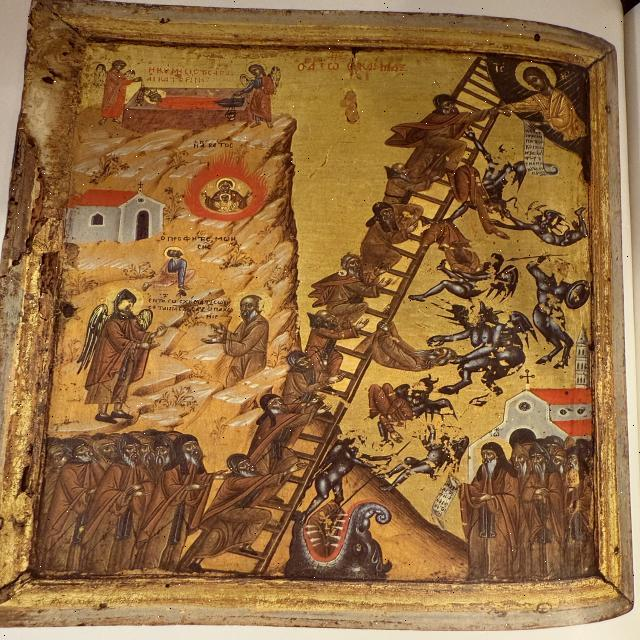angel: (56, 277, 166, 424), (80, 55, 142, 129), (230, 60, 292, 128)
aura: (513, 60, 563, 96), (236, 292, 274, 322), (104, 288, 146, 314), (476, 438, 512, 466), (142, 89, 168, 104), (164, 246, 186, 260), (218, 179, 237, 193)
christ: (497, 55, 598, 159)
saint: (433, 436, 537, 585), (202, 290, 278, 378)
scroll: (520, 118, 564, 184), (429, 473, 469, 527)
wing: (77, 301, 107, 377), (131, 310, 159, 328), (93, 64, 109, 94), (270, 66, 286, 94), (237, 73, 254, 89), (125, 70, 138, 80)
